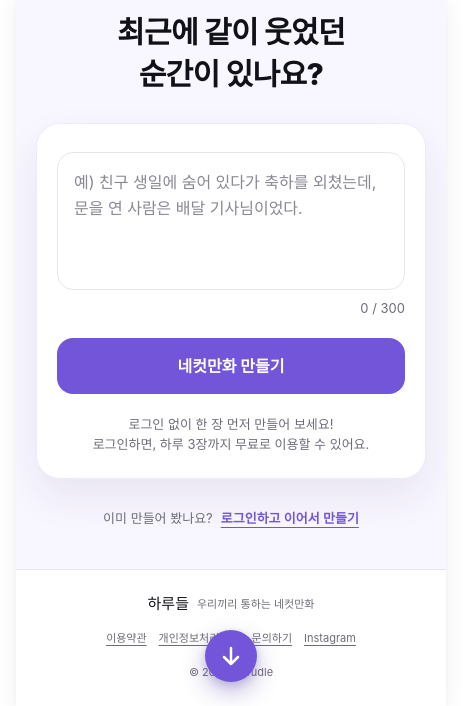
it: 게스트 체험 랜딩 작성 화면 › 빈 내용으로 누르면 생성하지 않고 입력창에 초점을 주며 안내한다
The width and height of the screenshot is (463, 706).
(page scrolled)
Click the button "네컷만화 만들기" at (231, 366), box top-left (57, 338), bottom-right (405, 394)
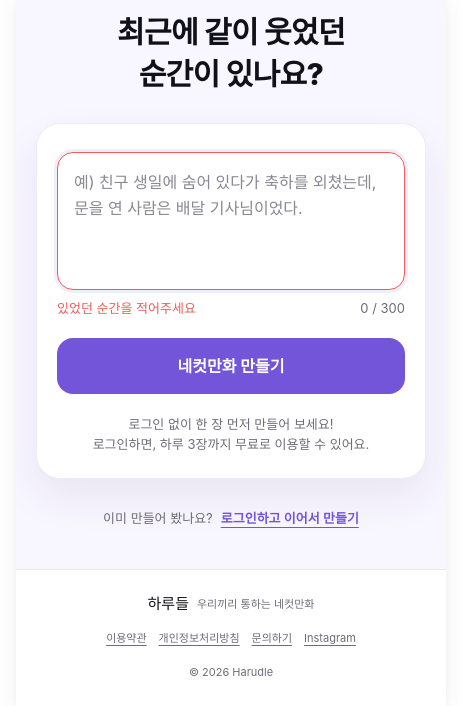
Expected: the message reads "있었던 순간을 적어주세요", top-left (57, 300), bottom-right (196, 316)
